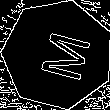M_W: (26, 26, 88, 83)
